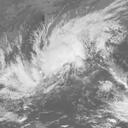cyclone: (25, 30, 86, 80)
